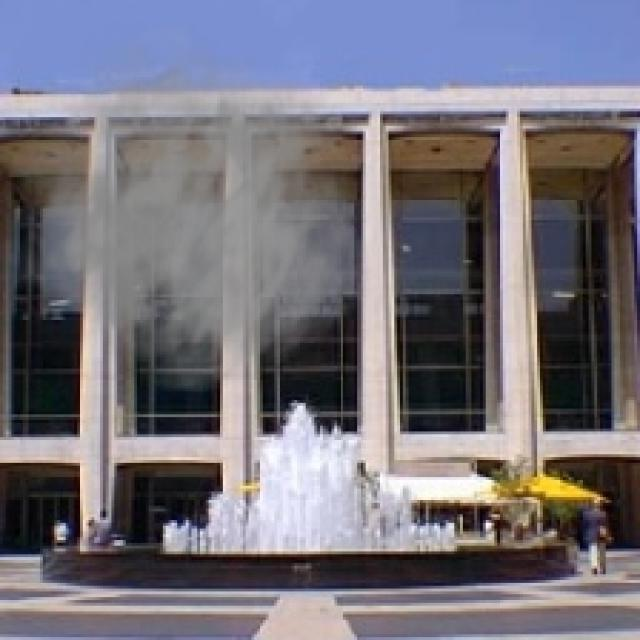Smoke: (2, 19, 372, 394)
